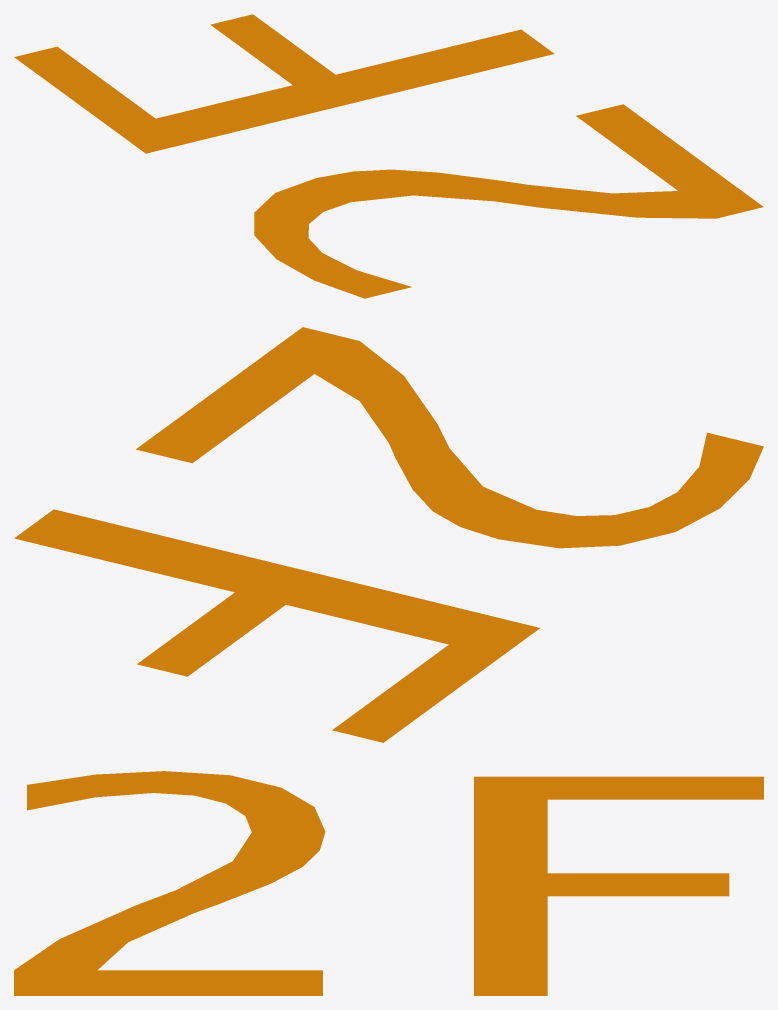
The model's file is Elec_2F.fbx.
The picture shows the model from 3 angles, top to bottom: view 1: azimuth 30°, elevation 25°; view 2: azimuth 150°, elevation 25°; view 3: azimuth 270°, elevation 25°; orthographic projection. The views are drawn at different scales.
Visible parts, largest first — view 1: Tile2F; view 2: Tile2F; view 3: Tile2F.
Part boxes in pixels (box(x1,y1,x2,y2)): Tile2F: box(14, 14, 763, 298); Tile2F: box(14, 327, 763, 742); Tile2F: box(14, 771, 763, 995).
Size of the model in its own units: 0.4425 by 0 by 0.6237.
